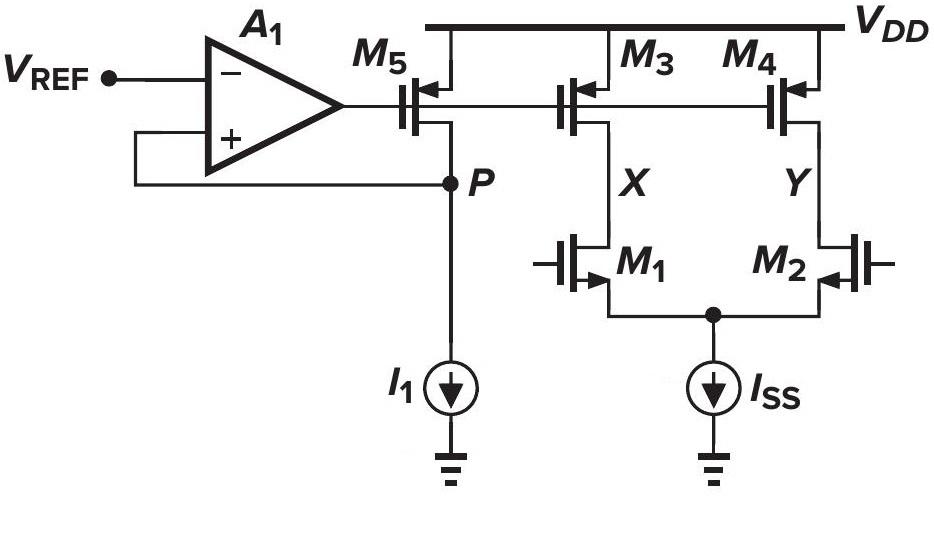current: (682, 356, 742, 416), (421, 358, 482, 415)
gnd: (695, 441, 732, 487), (432, 439, 468, 485)
nmos: (551, 229, 614, 292), (813, 229, 876, 292)
op: (193, 29, 351, 182)
pmos: (392, 74, 457, 138), (760, 73, 824, 138), (551, 73, 614, 138)
